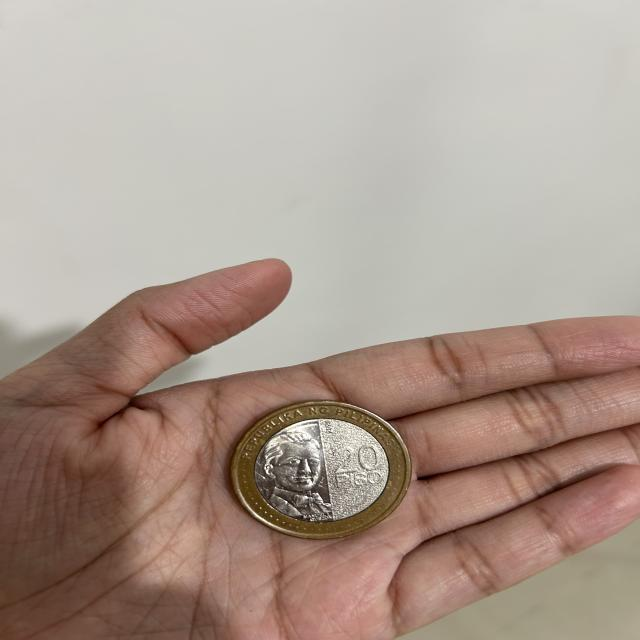20_New_Front: (323, 443, 401, 505)
